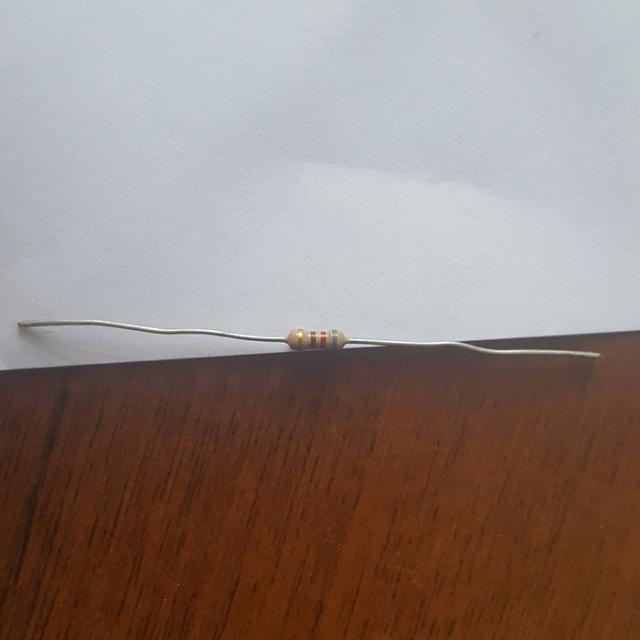brown: (311, 332, 316, 346)
gold: (298, 329, 303, 347)
grey: (333, 331, 338, 349)
red: (320, 332, 325, 346)
resistor: (281, 325, 353, 361)
